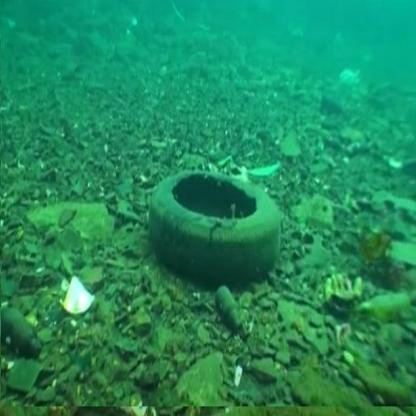tire: (124, 143, 294, 293)
